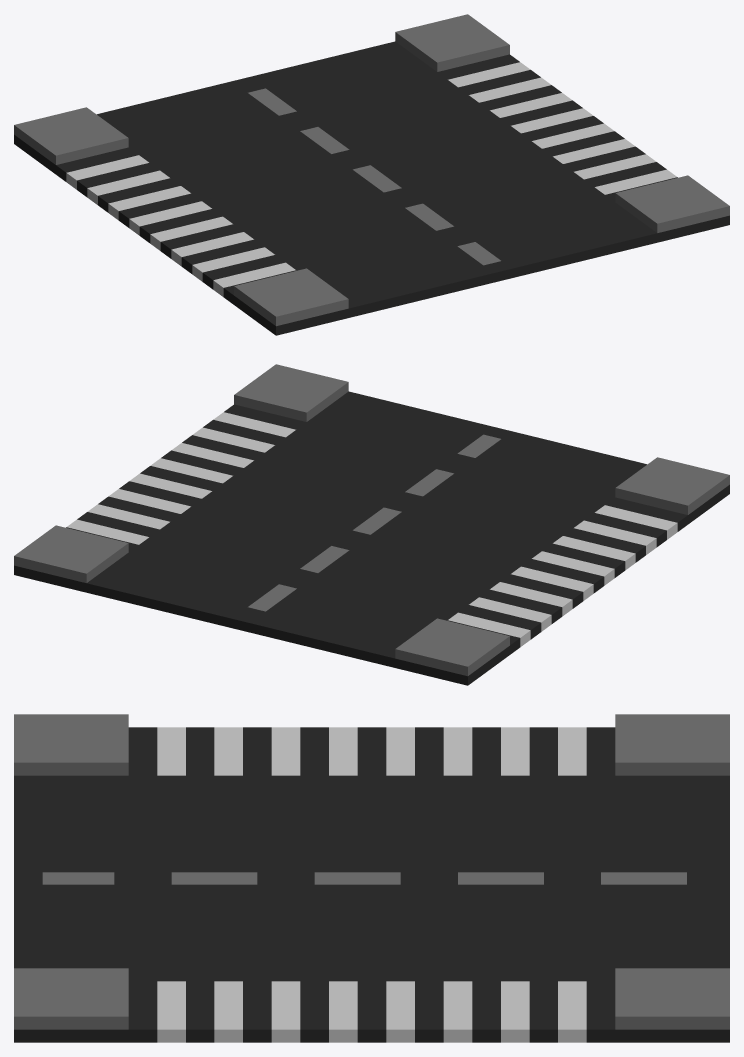
The model's file is road3.obj.
The picture shows the model from 3 angles, top to bottom: view 1: azimuth 30°, elevation 25°; view 2: azimuth 150°, elevation 25°; view 3: azimuth 270°, elevation 25°; orthographic projection. The views are drawn at different scales.
Size of the model in its own units: 5 by 0.2 by 5.
1 material, 1 textured.
